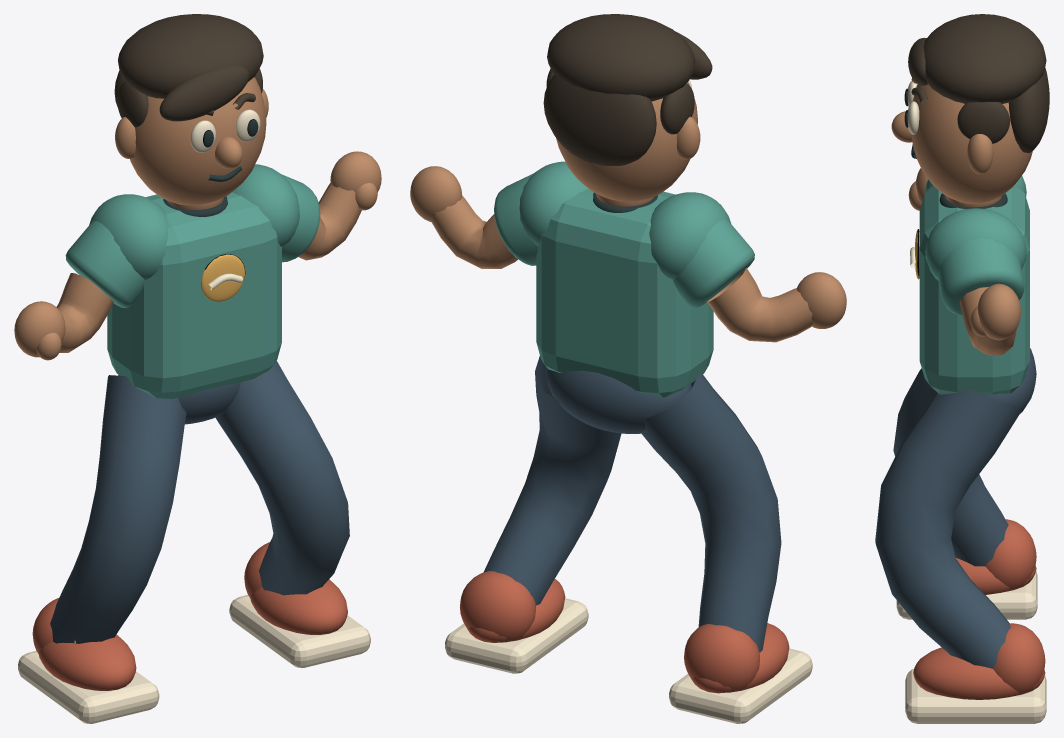
The model's file is skater.glb.
3 renders of one model, left to right at view 1: azimuth 30°, elevation 25°; view 2: azimuth 150°, elevation 25°; view 3: azimuth 270°, elevation 25°, orthographic. The views are drawn at different scales.
Parts seen in each view (by area): view 1: skater_textured_mesh; view 2: skater_textured_mesh; view 3: skater_textured_mesh.
Part boxes in pixels (x1,y1,x2,y2): skater_textured_mesh: (14, 14, 381, 723); skater_textured_mesh: (410, 14, 846, 723); skater_textured_mesh: (875, 14, 1049, 723).
Bounding box in the file's own units: 2.04 × 3.16 × 0.7924.
1 material, 1 textured.
